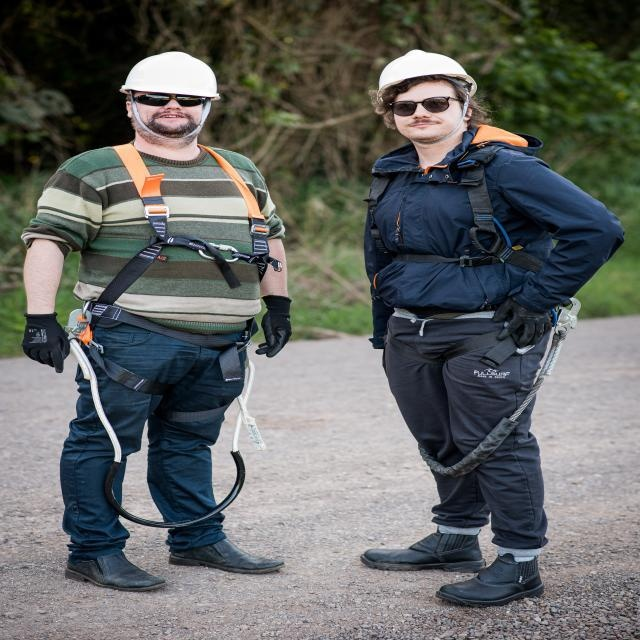Arnes_seguridad: (66, 136, 286, 427), (361, 141, 563, 369)
